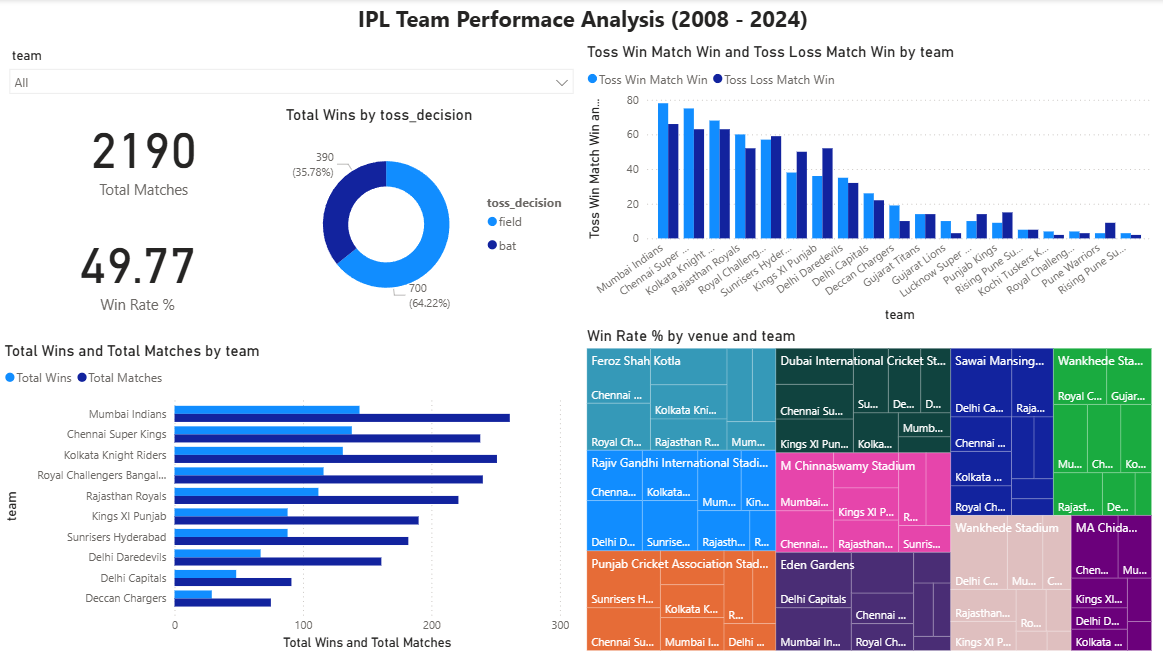

This screenshot's page, from the dashboard's own definition file:
{"tool":"powerbi","page":{"name":"Team Performance Analysis","canvas":[1280,720],"ordinal":1},"visuals":[{"type":"clusteredBarChart","fields":{"Y":["team_performance.Total Wins","team_performance.Total Matches"],"Category":["team_performance.team"]},"box":[0,376,629.8,343.1],"z":0},{"type":"clusteredColumnChart","fields":{"Category":["team_performance.team"],"Y":["team_performance.Toss Win Match Win","team_performance.Toss Loss Match Win"]},"box":[639.5,48,629.8,311.5],"z":1000},{"type":"treemap","fields":{"Group":["team_performance.venue"],"Values":["team_performance.Win Rate %"],"Details":["team_performance.team"]},"box":[639.5,359.5,629.8,360.9],"z":2000},{"type":"slicer","fields":{"Values":["team_performance.team"]},"box":[0,48,639.5,68.6],"z":3000},{"type":"donutChart","fields":{"Category":["team_performance.toss_decision"],"Y":["team_performance.Total Wins"]},"box":[308.7,116.6,330.7,242.9],"z":4000},{"type":"card","fields":{"Values":["team_performance.Total Matches"]},"box":[6.9,107,301.9,126.2],"z":5000},{"type":"card","fields":{"Values":["team_performance.Win Rate %"]},"box":[0,233.3,301.9,126.2],"z":6000},{"type":"textbox","box":[0,0,1280.3,48],"z":7000}]}

Visuals, with their boxes in screenshot pixels (x1, y1, x2, y2), scaled from the page's 1280x720 canvas onto the 1163x655 screenshot:
clusteredBarChart - team_performance.Total Wins x team_performance.Total Matches: select_region(0, 342, 572, 654)
clusteredColumnChart - team_performance.team x team_performance.Toss Win Match Win: select_region(581, 44, 1153, 327)
treemap - team_performance.venue x team_performance.Win Rate %: select_region(581, 327, 1153, 654)
slicer - team_performance.team: select_region(0, 44, 581, 106)
donutChart - team_performance.toss_decision x team_performance.Total Wins: select_region(280, 106, 581, 327)
card - team_performance.Total Matches: select_region(6, 97, 281, 212)
card - team_performance.Win Rate %: select_region(0, 212, 274, 327)
textbox: select_region(0, 0, 1162, 44)
